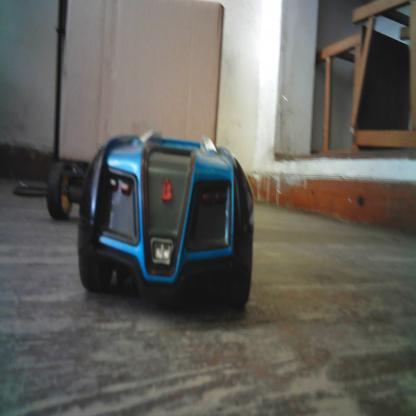LeadTruck: (52, 2, 227, 218)
